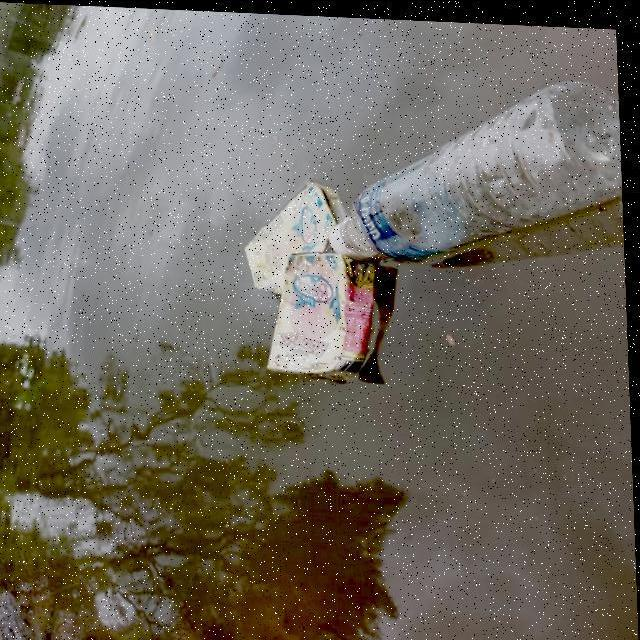Bottle: (335, 78, 624, 268)
Box: (263, 246, 383, 381), (245, 179, 358, 303)
